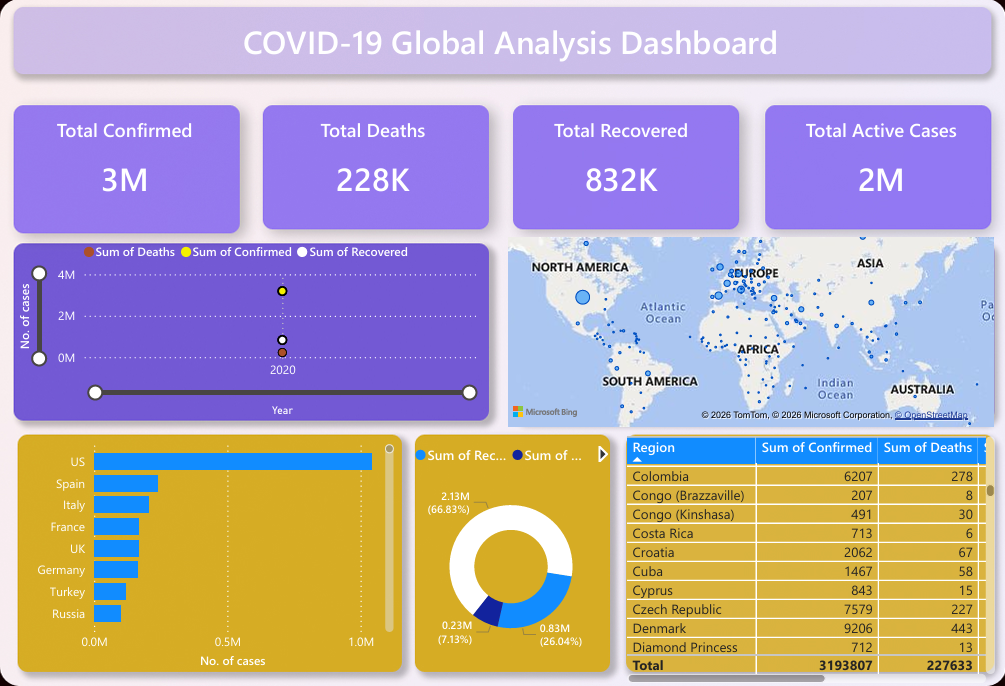

The page's visual inventory and layout, read from the dashboard file:
{"tool":"powerbi","page":{"name":"Page 1","canvas":[1280,720],"ordinal":0},"visuals":[{"type":"cardVisual","title":"Total Confirmed","fields":{"Data":["covid_powerbi.Total Confirmed"]},"box":[160.5,133.1,199,94.7],"z":0},{"type":"cardVisual","title":"Total Deaths","fields":{"Data":["covid_powerbi.Total Deaths"]},"box":[408.9,133.1,199,94.7],"z":1000},{"type":"cardVisual","title":"Total Recovered","fields":{"Data":["covid_powerbi.Total Recovered"]},"box":[657.3,133.1,199,94.7],"z":2000},{"type":"cardVisual","title":"Total Active Cases","fields":{"Data":["covid_powerbi.Total Active Cases"]},"box":[916.6,133.1,199,94.7],"z":3000},{"type":"lineChart","fields":{"Category":["covid_powerbi.Date.Variation.Date Hierarchy.Year","covid_powerbi.Date.Variation.Date Hierarchy.Quarter","covid_powerbi.Date.Variation.Date Hierarchy.Month","covid_powerbi.Date.Variation.Date Hierarchy.Day"],"Y":["Sum(covid_powerbi.Deaths)","Sum(covid_powerbi.Confirmed)","Sum(covid_powerbi.Recovered)"]},"box":[146.8,248.4,473.4,188],"z":4000},{"type":"map","fields":{"Category":["covid_powerbi.Region"],"Size":["Sum(covid_powerbi.Confirmed)"]},"box":[639.5,248.4,495.4,199],"z":5000},{"type":"clusteredBarChart","fields":{"Category":["covid_powerbi.Region"],"Y":["Sum(covid_powerbi.Confirmed)"]},"box":[32.9,447.3,500.9,241.5],"z":5001},{"type":"donutChart","fields":{"Y":["Sum(covid_powerbi.Recovered)","Sum(covid_powerbi.Deaths)","Sum(covid_powerbi.Active Cases)"]},"box":[544.8,450.1,203.1,234.6],"z":5002},{"type":"tableEx","fields":{"Values":["covid_powerbi.Region","Sum(covid_powerbi.Confirmed)","Sum(covid_powerbi.Deaths)","Sum(covid_powerbi.Mortality Rate)","Sum(covid_powerbi.Recovery Ratio)"]},"box":[757.5,447.3,377.4,255.2],"z":5003},{"type":"textbox","box":[333.7,30.2,624.4,62.8],"z":5004}]}

Visuals, with their boxes on the page's 1280x720 design canvas (x1, y1, x2, y2). These are canvas units, not pixel positions in the 1005x686 screenshot, which may show the page scaled, cropped or inside an application window:
"Total Confirmed" cardVisual: Rect(160, 133, 360, 228)
"Total Deaths" cardVisual: Rect(409, 133, 608, 228)
"Total Recovered" cardVisual: Rect(657, 133, 856, 228)
"Total Active Cases" cardVisual: Rect(917, 133, 1116, 228)
lineChart - covid_powerbi.Date.Variation.Date Hierarchy.Year x covid_powerbi.Date.Variation.Date Hierarchy.Quarter: Rect(147, 248, 620, 436)
map - covid_powerbi.Region x Sum(covid_powerbi.Confirmed): Rect(640, 248, 1135, 447)
clusteredBarChart - covid_powerbi.Region x Sum(covid_powerbi.Confirmed): Rect(33, 447, 534, 689)
donutChart - Sum(covid_powerbi.Recovered) x Sum(covid_powerbi.Deaths): Rect(545, 450, 748, 685)
tableEx - covid_powerbi.Region x Sum(covid_powerbi.Confirmed): Rect(758, 447, 1135, 702)
textbox: Rect(334, 30, 958, 93)
